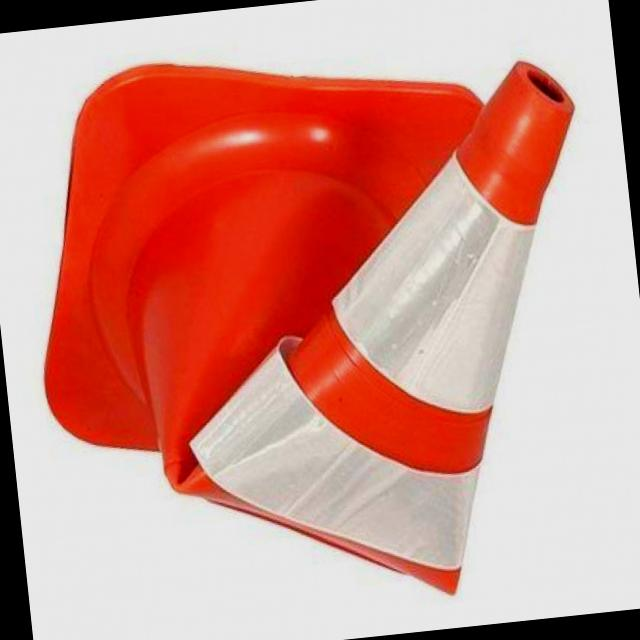cone: (28, 19, 631, 630)
